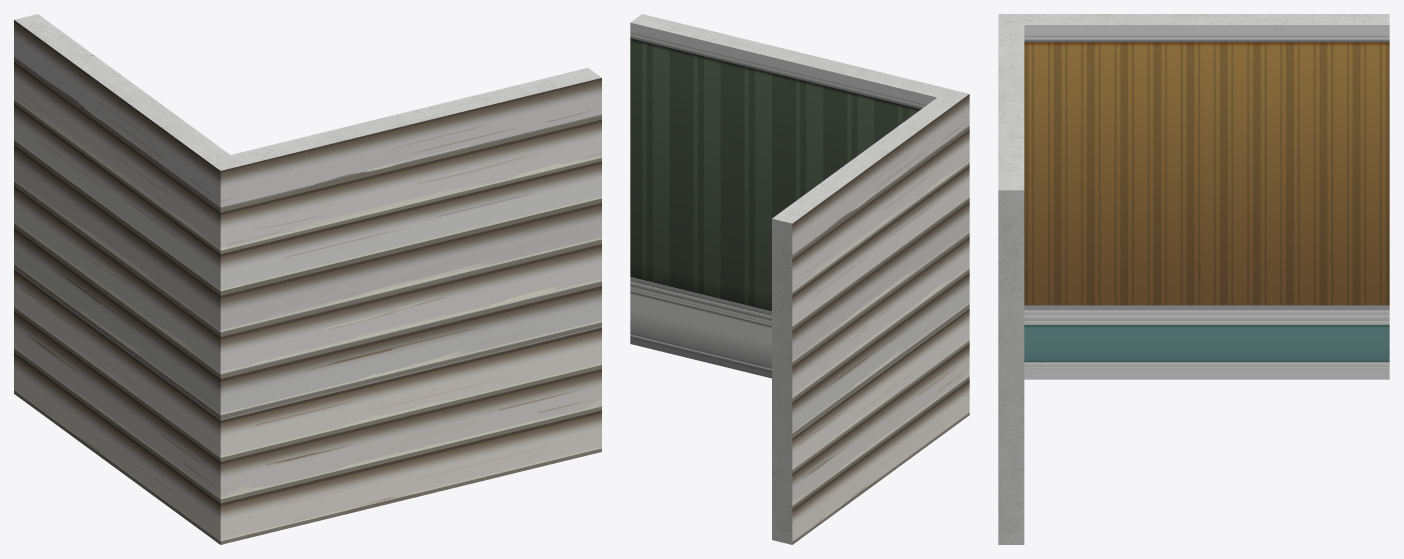
Rendered from wall01_corner_B.fbx.
The picture shows the model from 3 angles, left to right: view 1: azimuth 30°, elevation 25°; view 2: azimuth 150°, elevation 25°; view 3: azimuth 270°, elevation 25°; orthographic projection. The views are drawn at different scales.
Visible parts, largest first — view 1: wall01_corner_B; view 2: wall01_corner_B; view 3: wall01_corner_B.
Part boxes in pixels (x1,y1,x2,y2): wall01_corner_B: [14, 14, 601, 544]; wall01_corner_B: [630, 14, 969, 544]; wall01_corner_B: [998, 14, 1389, 544].
Bounding box in the file's own units: 320 × 300 × 300.
